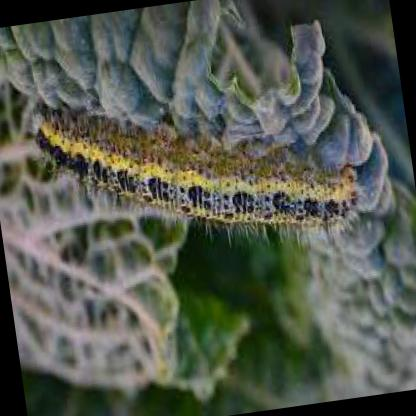pieris: (31, 106, 359, 231)
